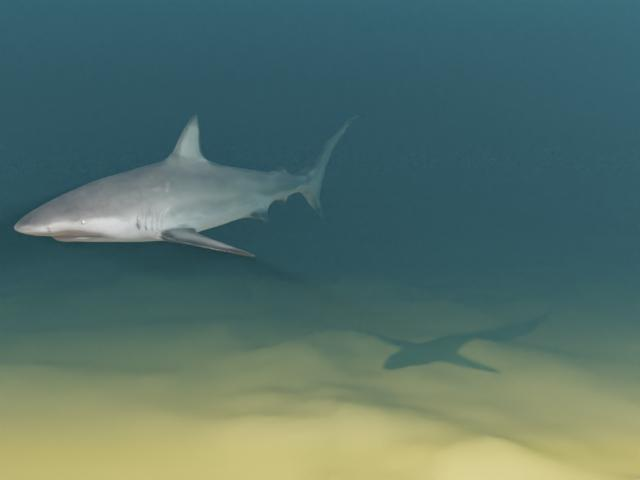Carribean Shark.001: (14, 114, 359, 256)
